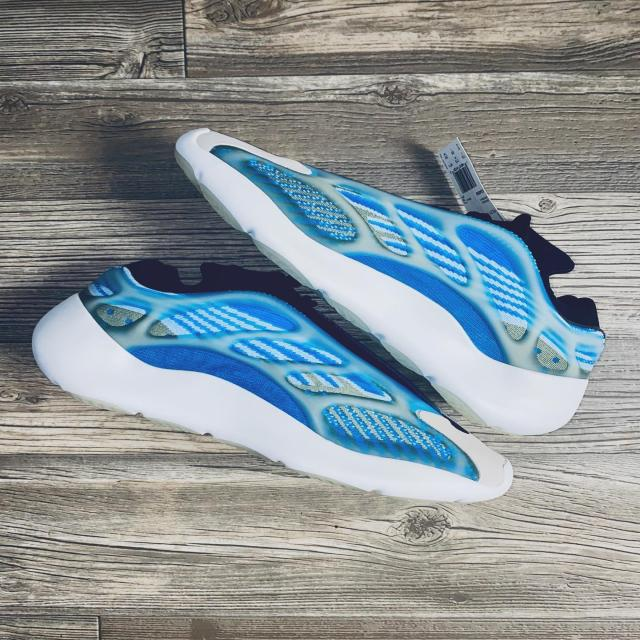shoe: (166, 118, 640, 441), (18, 248, 534, 513)
